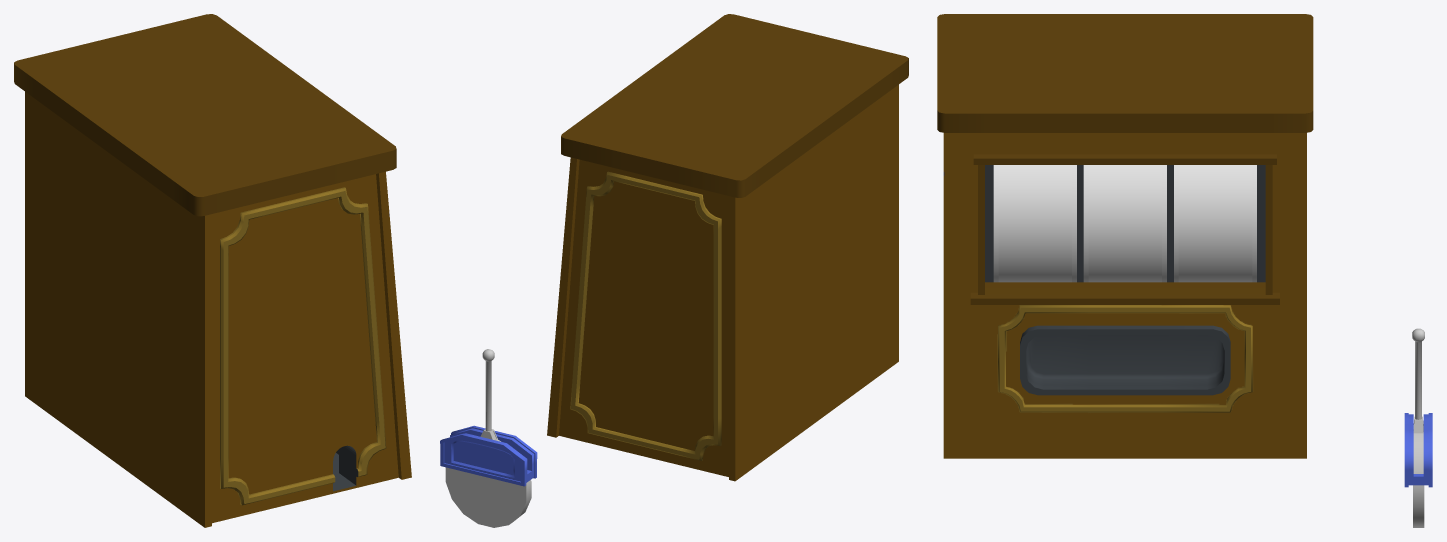
File: SlotMachine.fbx
3 views of the same model, side by side, from view 1: azimuth 30°, elevation 25°; view 2: azimuth 150°, elevation 25°; view 3: azimuth 270°, elevation 25° (orthographic). The views are drawn at different scales.
Visible parts, largest first — view 1: Body; view 2: Body, Lever, LeverBracket; view 3: Body, Drum1, Drum2, Drum3, Lever, LeverBracket.
Part boxes in pixels (bbox=[...]): Body: bbox=[14, 14, 411, 527]; Body: bbox=[547, 14, 908, 481]; Lever: bbox=[445, 349, 531, 527]; LeverBracket: bbox=[440, 425, 537, 486]; Body: bbox=[937, 14, 1313, 458]; Drum1: bbox=[993, 165, 1076, 282]; Drum2: bbox=[1083, 165, 1166, 282]; Drum3: bbox=[1174, 165, 1256, 282]; Lever: bbox=[1412, 328, 1424, 527]; LeverBracket: bbox=[1404, 413, 1432, 487].
Size of the model in its own units: 181 by 250 by 282.
